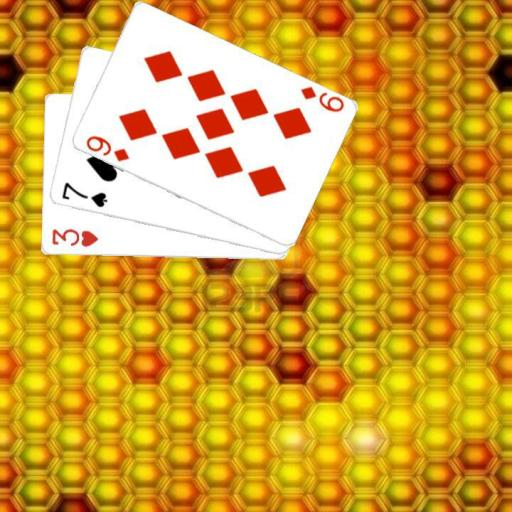3H: (49, 225, 100, 249)
7S: (58, 179, 108, 209)
9D: (297, 83, 346, 114), (83, 132, 130, 164)
